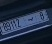1: (10, 21, 14, 30), (13, 19, 16, 29)
2: (16, 19, 20, 27)
8: (39, 12, 45, 20), (2, 23, 7, 31)
9: (7, 22, 11, 31)
b: (27, 16, 33, 23)
